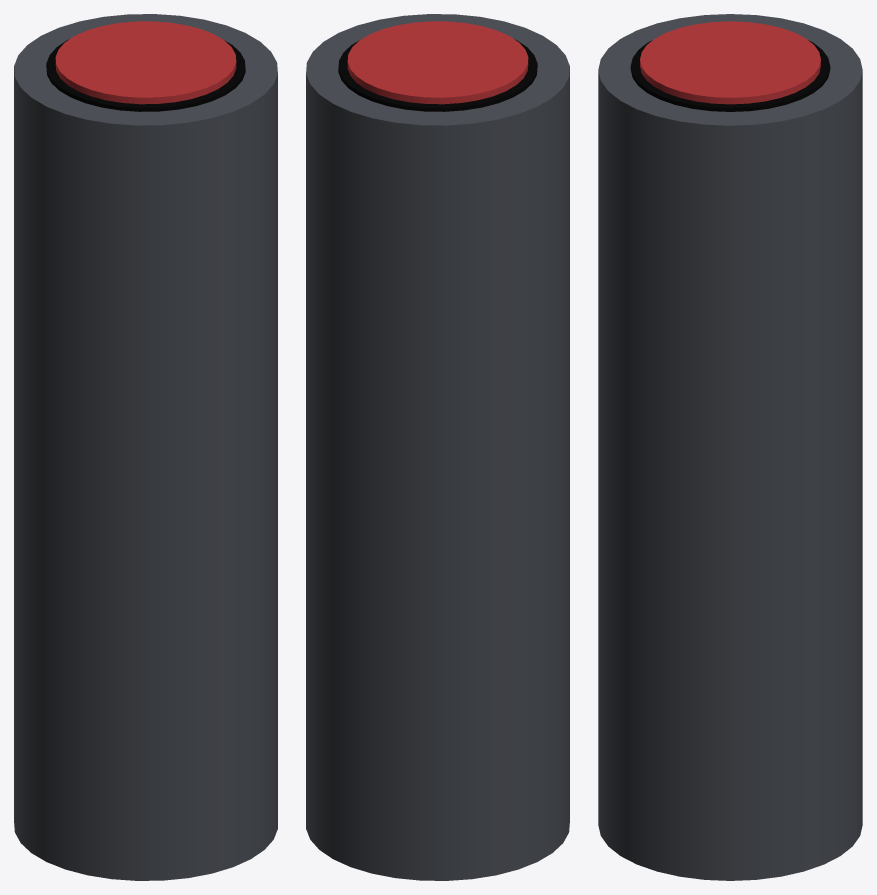
Rendered from StandButton.fbx.
3 renders of one model, left to right at view 1: azimuth 30°, elevation 25°; view 2: azimuth 150°, elevation 25°; view 3: azimuth 270°, elevation 25°, orthographic.
Parts seen in each view (by area): view 1: Stand; view 2: Stand; view 3: Stand.
Part boxes in pixels (x1,y1,x2,y2): Stand: (14,14,277,880); Stand: (306,14,569,880); Stand: (598,14,862,880).
Size of what is drawn, in the model's own units: 47.6 by 152 by 47.6.
